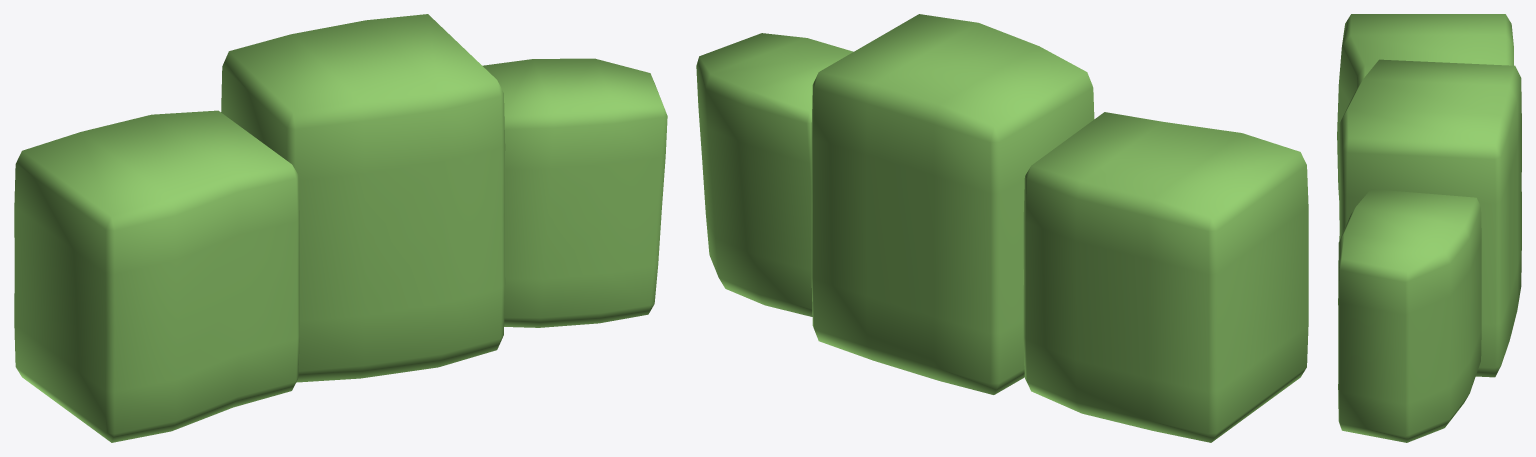
File: Grass_02.fbx
3 renders of one model, left to right at view 1: azimuth 30°, elevation 25°; view 2: azimuth 150°, elevation 25°; view 3: azimuth 270°, elevation 25°, orthographic. The views are drawn at different scales.
Parts seen in each view (by area): view 1: 立方体.016; view 2: 立方体.016; view 3: 立方体.016.
Boxes of the visible parts, x1,y1,x2,y2 form: 立方体.016: [14, 14, 667, 442]; 立方体.016: [696, 14, 1308, 442]; 立方体.016: [1337, 14, 1521, 442].
Bounding box in the file's own units: 520 × 237 × 166.
